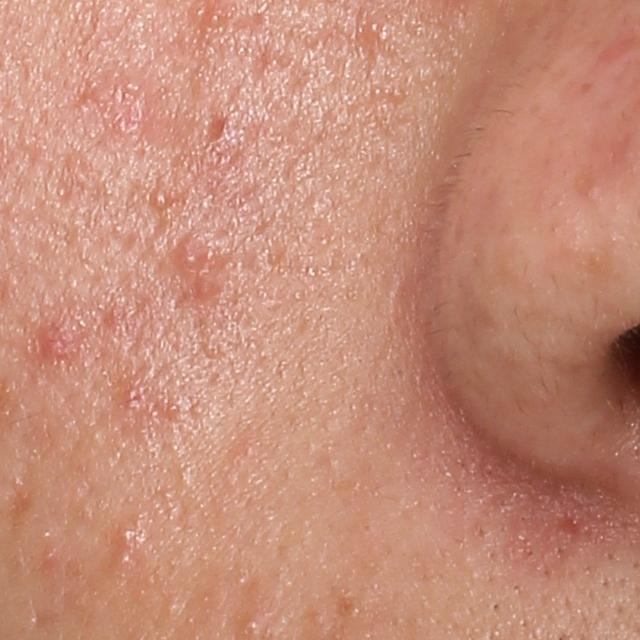atrophic_scar: (204, 111, 227, 144)
papule: (35, 323, 71, 365), (172, 236, 210, 273), (113, 523, 139, 549)
